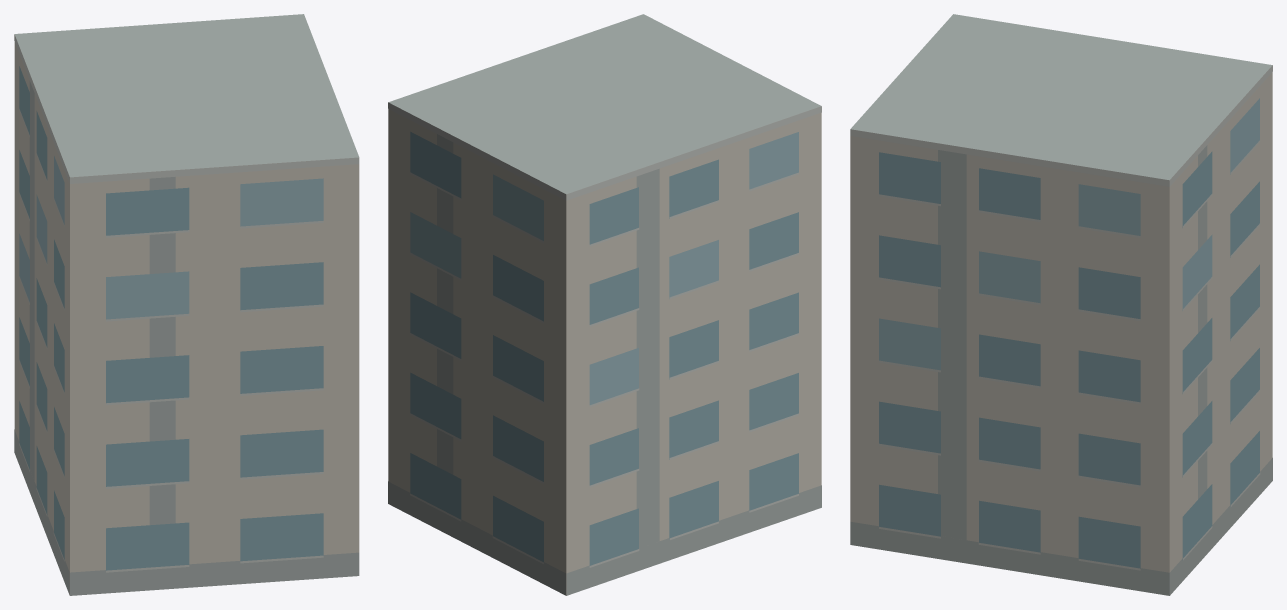
Rendered from residential-58a8f6a6-797b-4be4-b1f1-3a66f422295b.glb.
3 renders of one model, left to right at view 1: azimuth 30°, elevation 25°; view 2: azimuth 150°, elevation 25°; view 3: azimuth 270°, elevation 25°, orthographic. The views are drawn at different scales.
Visible parts, largest first — view 1: residential-58a8f6a6-797b-4be4-b1f1-3a66f422295b.tmp; view 2: residential-58a8f6a6-797b-4be4-b1f1-3a66f422295b.tmp; view 3: residential-58a8f6a6-797b-4be4-b1f1-3a66f422295b.tmp.
Part boxes in pixels (x1,y1,x2,y2): residential-58a8f6a6-797b-4be4-b1f1-3a66f422295b.tmp: [14, 14, 359, 595]; residential-58a8f6a6-797b-4be4-b1f1-3a66f422295b.tmp: [388, 14, 821, 595]; residential-58a8f6a6-797b-4be4-b1f1-3a66f422295b.tmp: [850, 14, 1272, 595].
Bounding box in the file's own units: 13.09 × 15.25 × 14.06.
